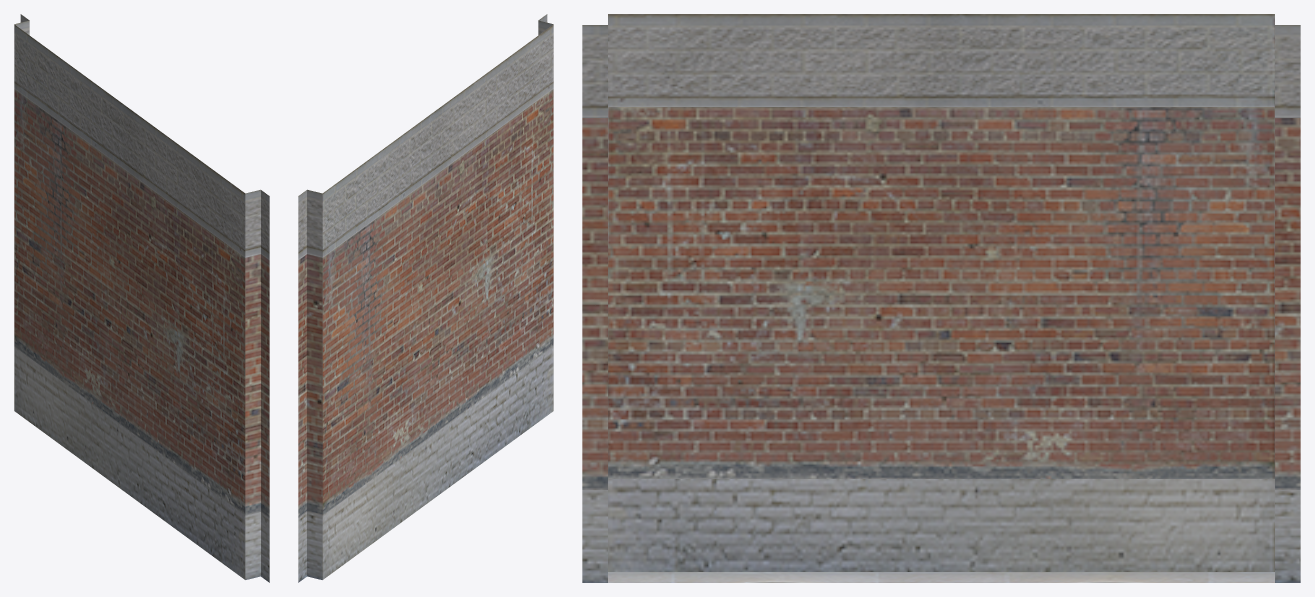
File: wall.FBX
3 views of the same model, side by side, from view 1: azimuth 30°, elevation 25°; view 2: azimuth 150°, elevation 25°; view 3: azimuth 270°, elevation 25° (orthographic). The views are drawn at different scales.
Parts seen in each view (by area): view 1: StyleE-Wing3; view 2: StyleE-Wing3; view 3: StyleE-Wing3.
Boxes of the visible parts, box(x1,y1,x2,y2) form: StyleE-Wing3: box(14, 14, 269, 582); StyleE-Wing3: box(298, 14, 553, 582); StyleE-Wing3: box(582, 14, 1300, 582).
Bounding box in the file's own units: 25 × 600 × 700.
